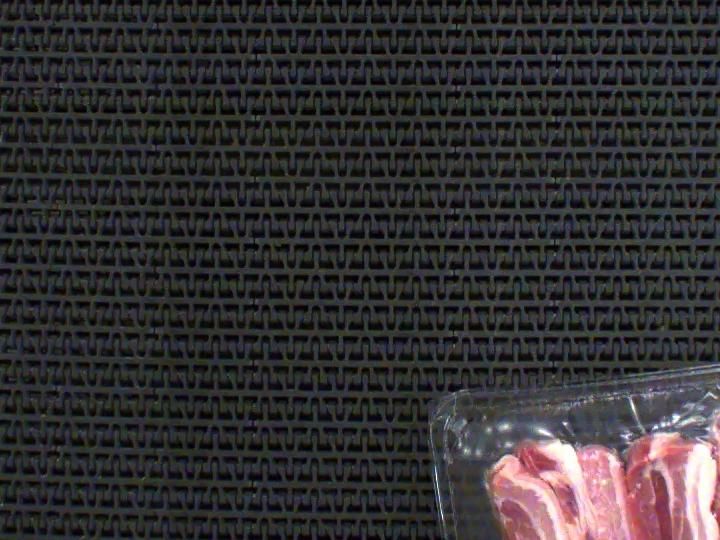unsealed: (427, 345, 720, 540)
